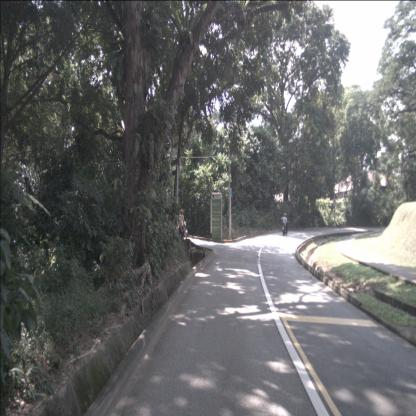vehicle-motorcycle: (176, 210, 188, 242), (281, 213, 289, 236)
